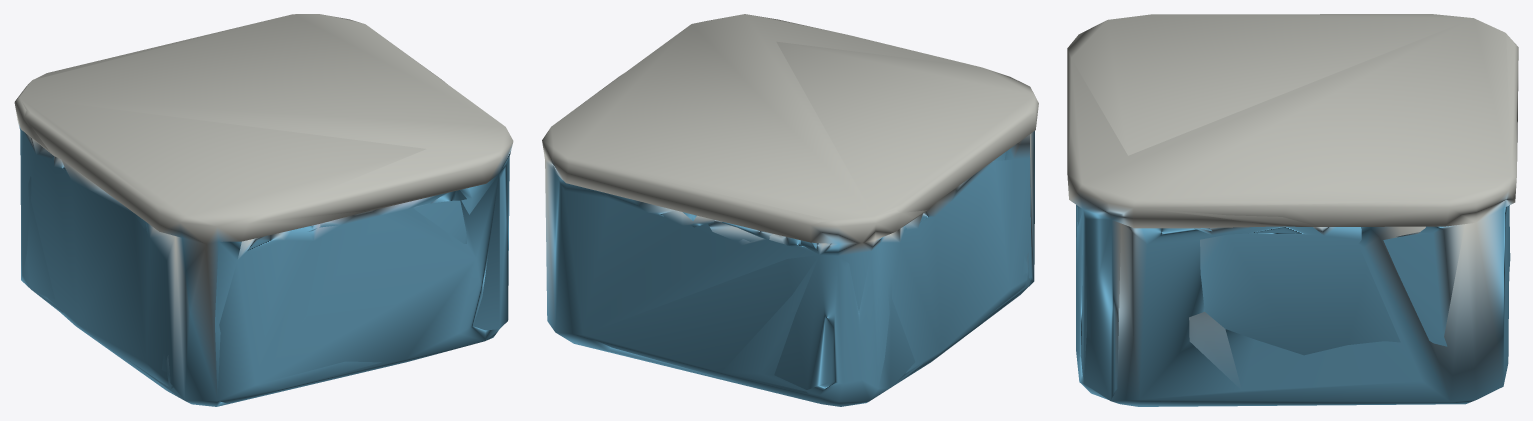
File: gen3d-kitchen-island-lod1.glb
3 renders of one model, left to right at view 1: azimuth 30°, elevation 25°; view 2: azimuth 150°, elevation 25°; view 3: azimuth 270°, elevation 25°, orthographic. The views are drawn at different scales.
Parts seen in each view (by area): view 1: part_0; view 2: part_0; view 3: part_0.
Part boxes in pixels (x1=…): part_0: x1=14, y1=14, x2=513, y2=406; part_0: x1=542, y1=14, x2=1038, y2=406; part_0: x1=1067, y1=14, x2=1518, y2=406.
Bounding box in the file's own units: 1.9 × 0.9997 × 1.9.
